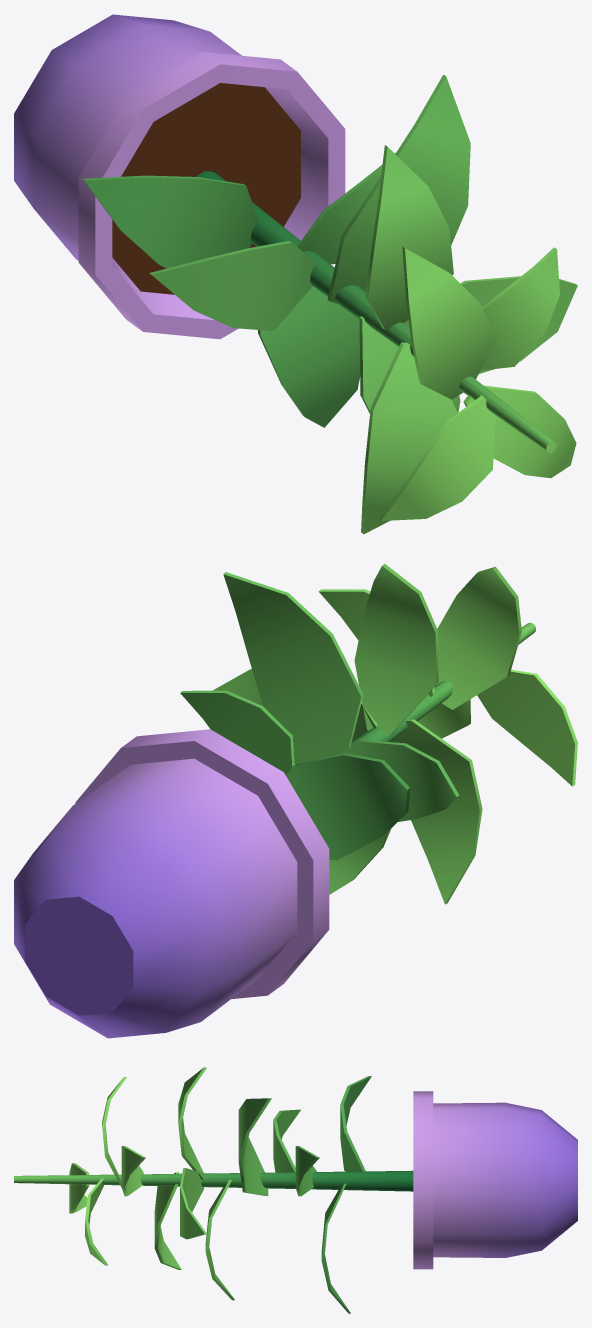
Rendered from Plant.fbx.
3 renders of one model, top to bottom at view 1: azimuth 30°, elevation 25°; view 2: azimuth 150°, elevation 25°; view 3: azimuth 270°, elevation 25°, orthographic. The views are drawn at different scales.
Parts seen in each view (by area): view 1: Plant; view 2: Plant; view 3: Plant.
Part boxes in pixels (bbox=[...]): Plant: bbox=[14, 14, 577, 534]; Plant: bbox=[14, 563, 577, 1038]; Plant: bbox=[14, 1067, 577, 1313].
Bounding box in the file's own units: 81.08 × 84.32 × 186.
